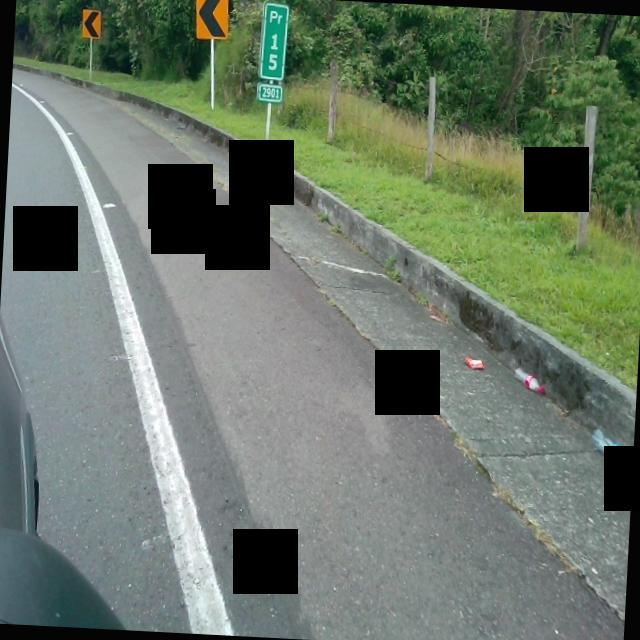DITCH: (0, 63, 640, 640), (0, 98, 640, 640)
